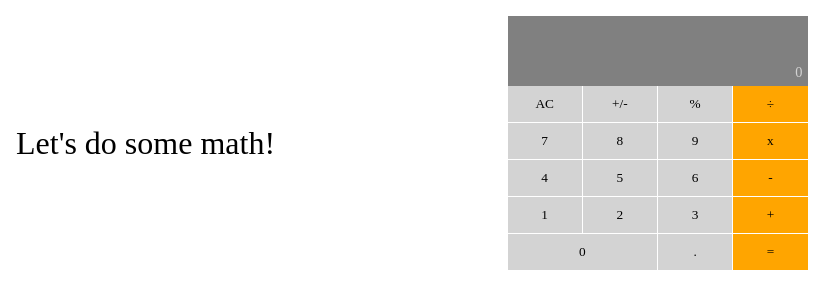
Test: Calculator component is rendererd › Component functions
Step 1. Click the button "1" → point(545, 215), box left=508, top=197, right=582, bottom=233
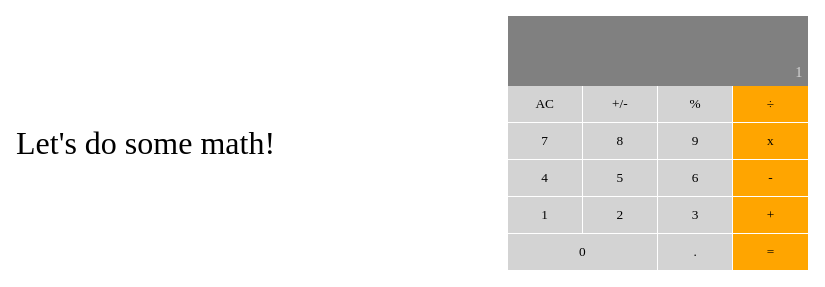
Step 2. Click the button "2" → point(620, 215), box left=583, top=197, right=657, bottom=233
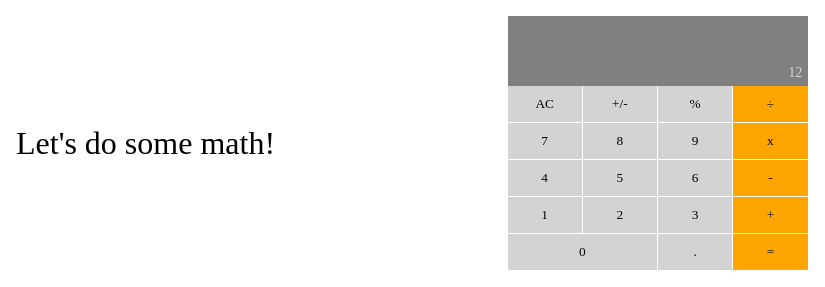
Step 3. Click the button "+" → point(770, 215), box left=733, top=197, right=808, bottom=233
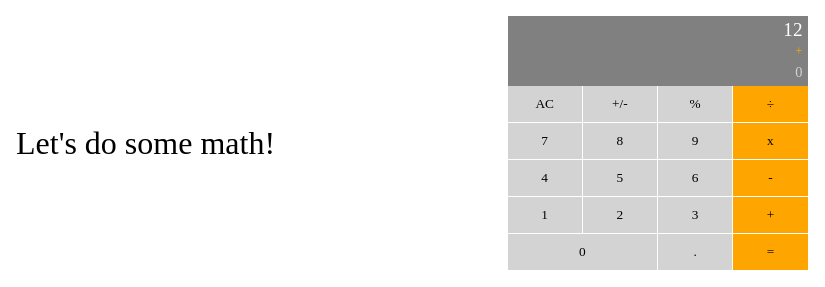
Step 4. Click the button "3" → point(695, 215), box left=658, top=197, right=732, bottom=233
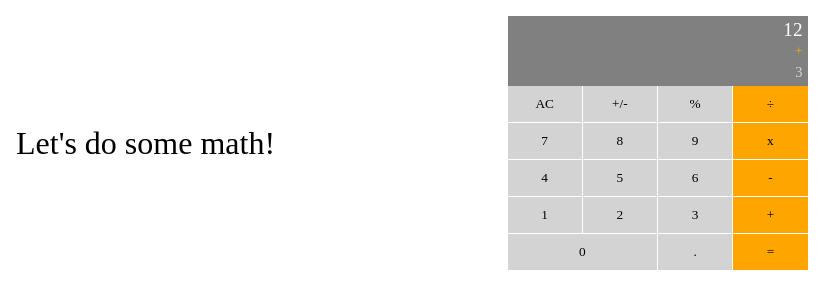
Step 5. Click the button "=" → point(770, 252), box left=733, top=234, right=808, bottom=270
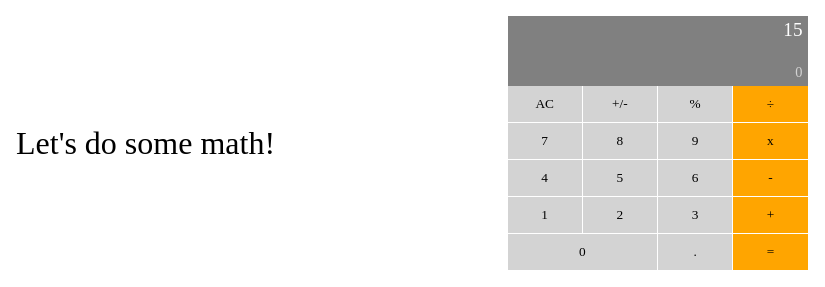
Expected: the text with test id "total" reads "15", left=783, top=19, right=802, bottom=40
